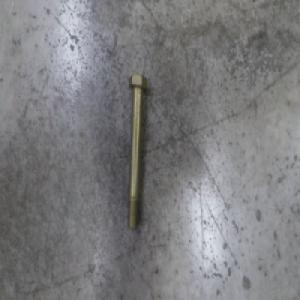Bolt: (126, 70, 148, 235)
